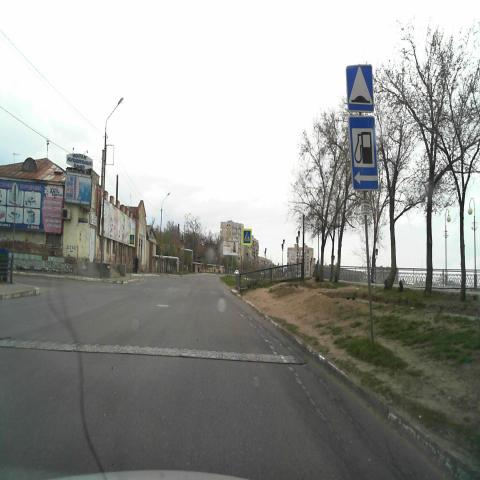5_20: (346, 61, 375, 115)
